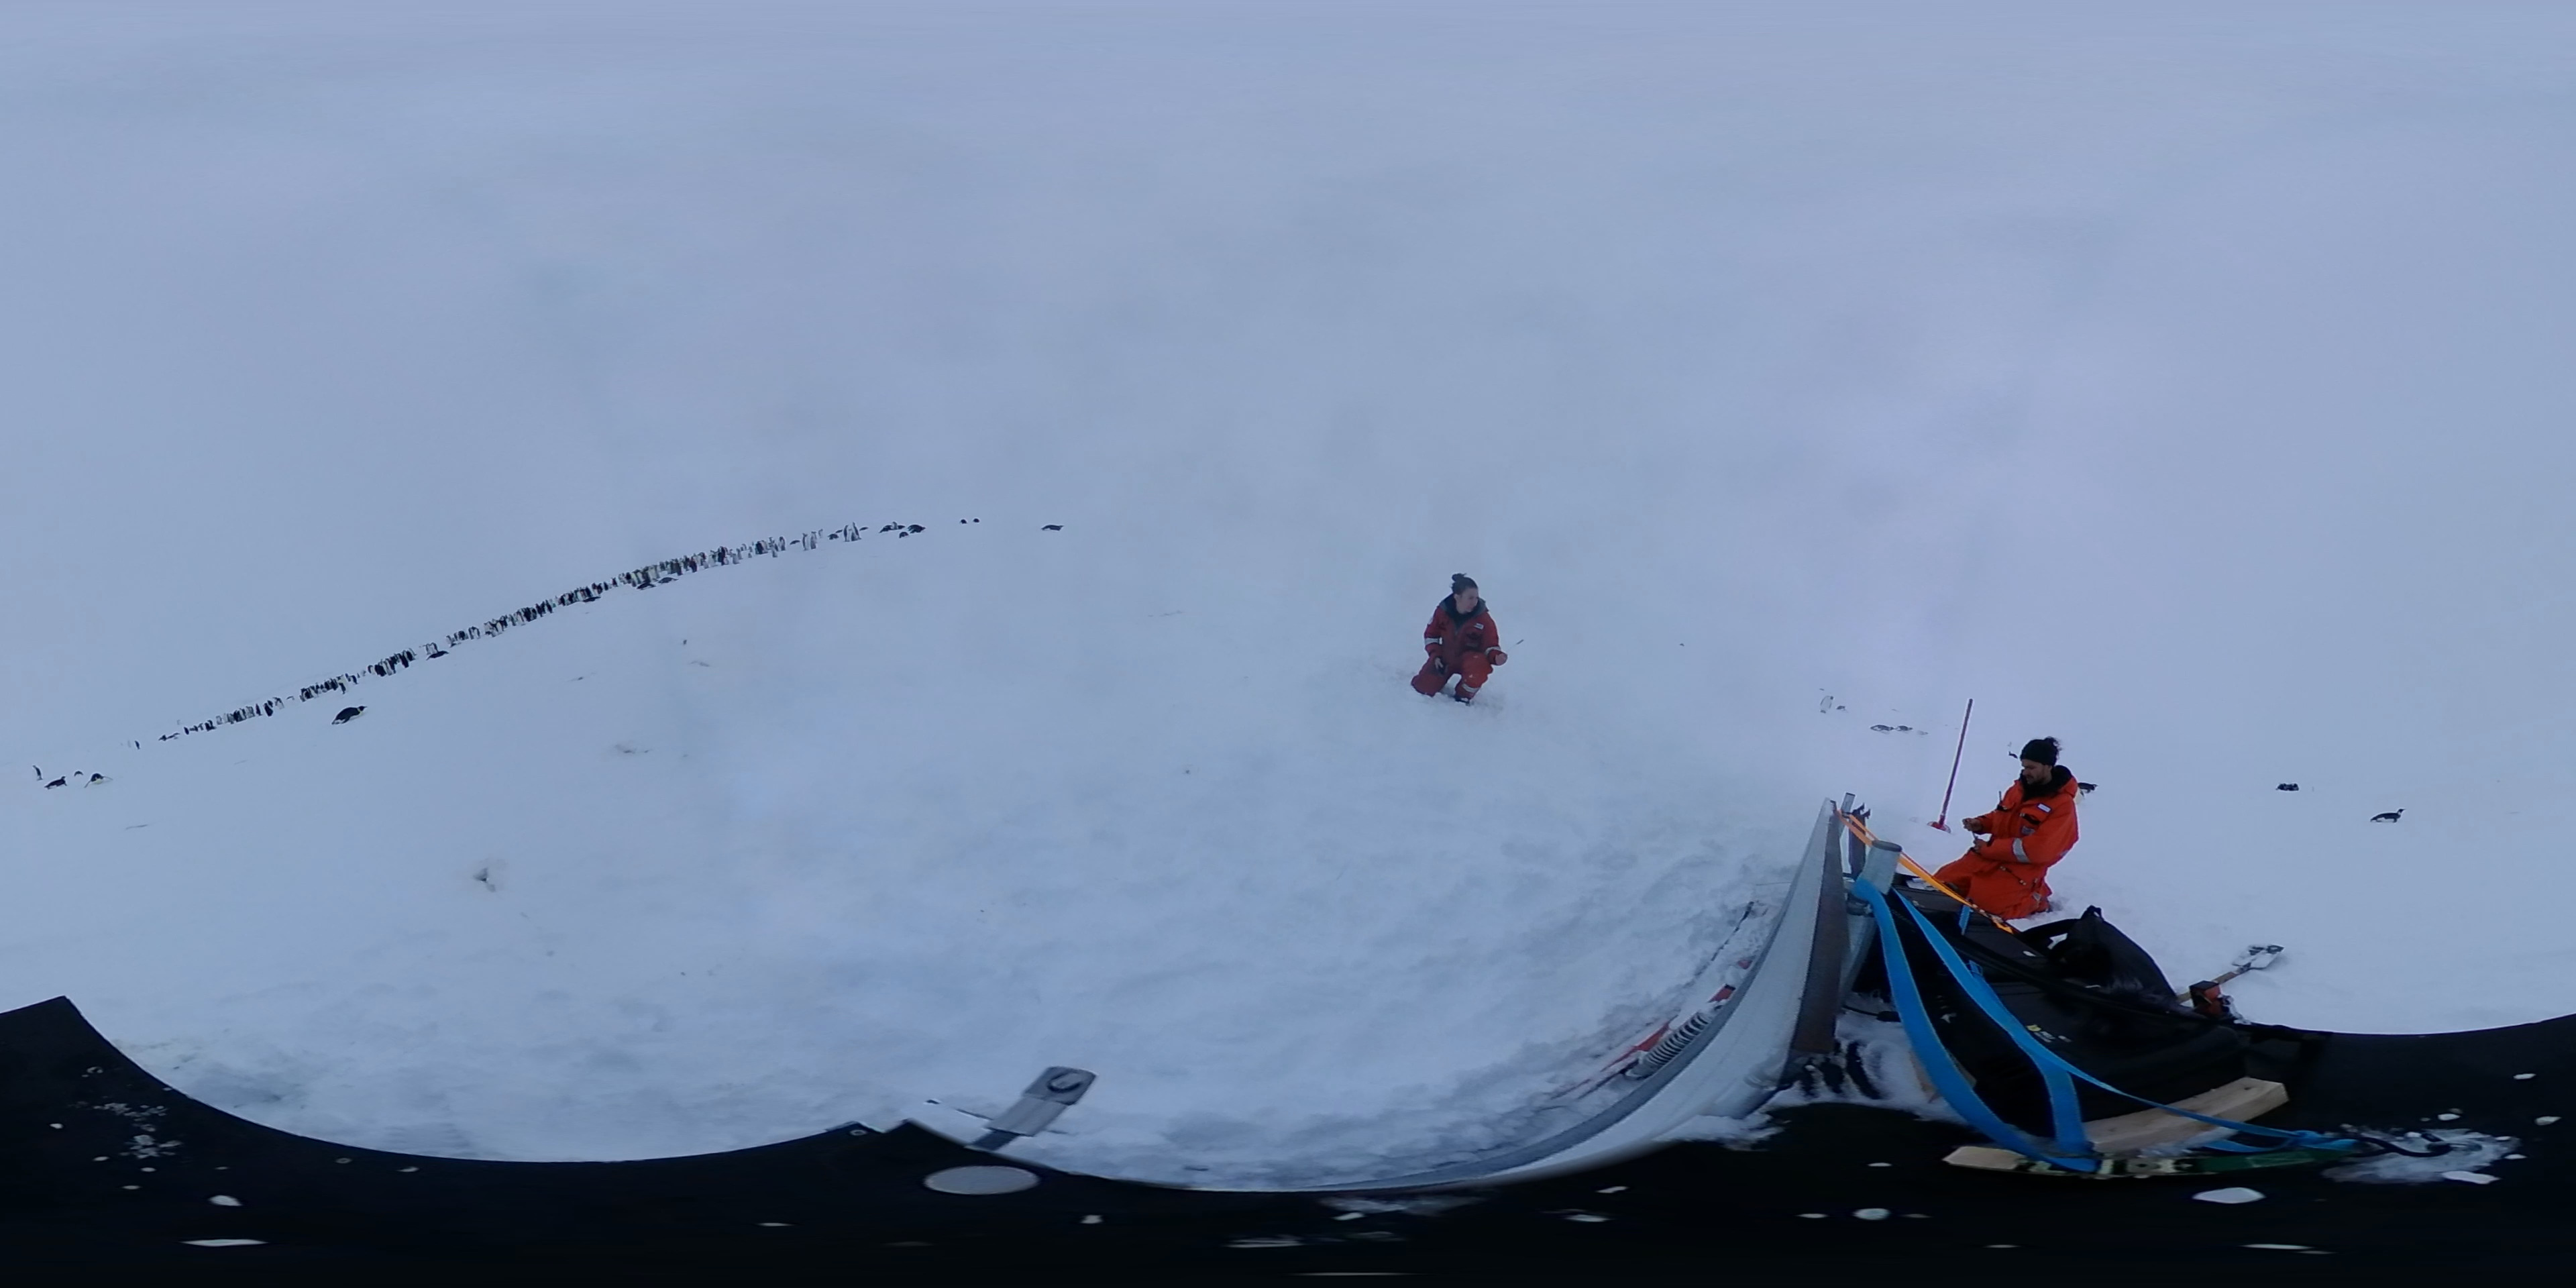adult_standing_penguin: (1810, 690, 1837, 718)
adult_toboggan_penguin: (332, 701, 371, 728), (2366, 807, 2407, 828), (43, 770, 71, 793), (84, 770, 110, 790), (1868, 721, 1896, 734), (1040, 519, 1066, 532)
researcher: (1916, 728, 2083, 925), (1406, 565, 1520, 705)
